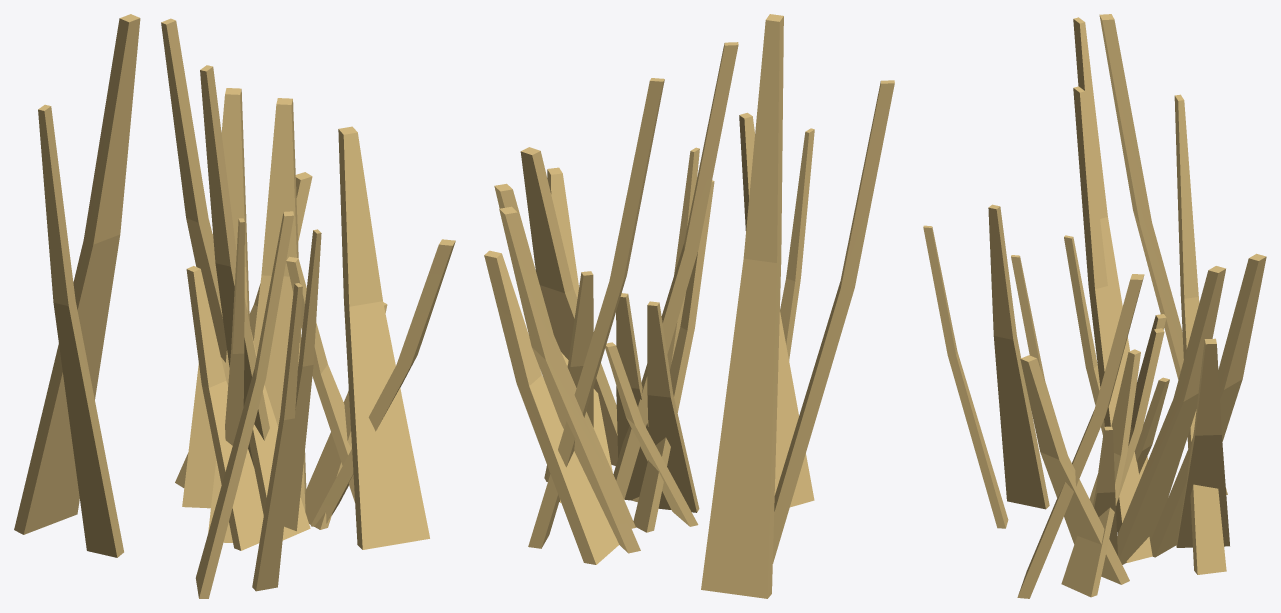
File: grass06.fbx
3 views of the same model, side by side, from view 1: azimuth 30°, elevation 25°; view 2: azimuth 150°, elevation 25°; view 3: azimuth 270°, elevation 25° (orthographic). The views are drawn at different scales.
Visible parts, largest first — view 1: Plane.263; view 2: Plane.263; view 3: Plane.263.
Boxes of the visible parts, bbox=[...] form: Plane.263: bbox=[14, 14, 455, 598]; Plane.263: bbox=[484, 14, 894, 598]; Plane.263: bbox=[923, 14, 1266, 598].
Size of the model in its own units: 0.1614 by 0.2157 by 0.1413.
